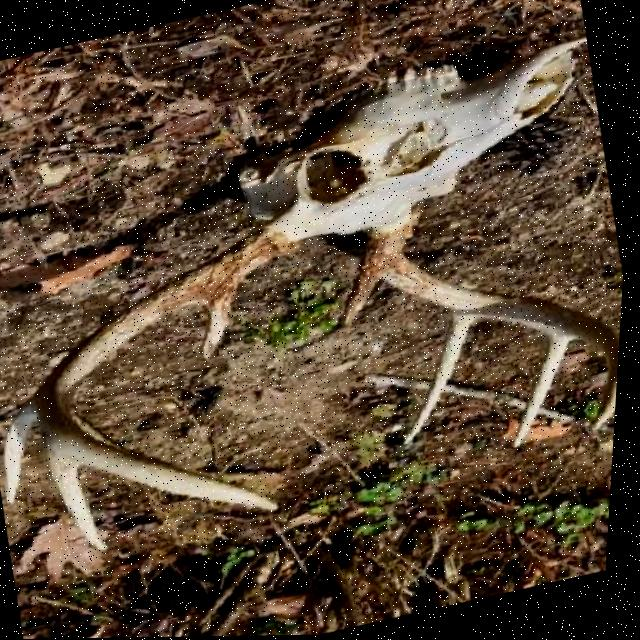L-F: (38, 228, 303, 512)
L-G1: (203, 285, 241, 361)
L-G2: (6, 396, 44, 504)
L-G3: (51, 449, 114, 550)
R-F: (362, 216, 624, 433)
R-G1: (346, 263, 384, 327)
R-G2: (406, 312, 482, 445)
R-G3: (518, 335, 576, 449)
